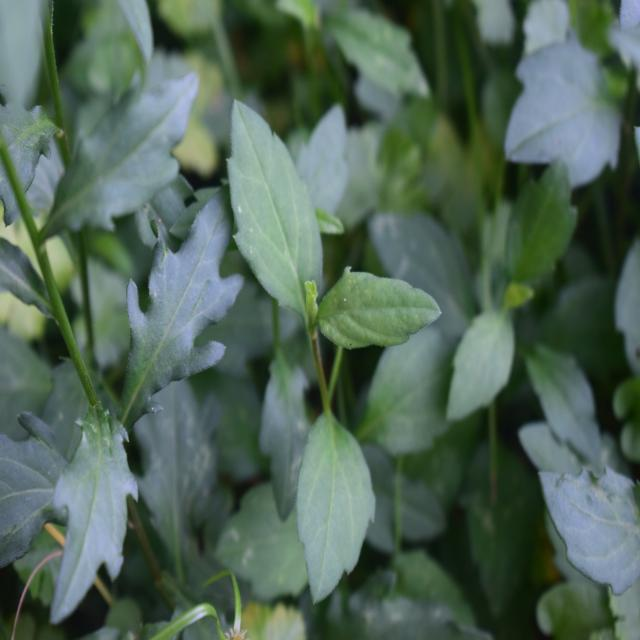Indian aster: (0, 32, 253, 593), (218, 97, 437, 575)
